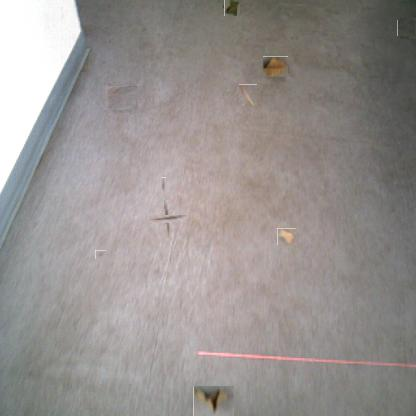dirty: (193, 386, 234, 416), (262, 56, 288, 77), (238, 86, 259, 106), (277, 228, 296, 246), (223, 0, 238, 15)
mark: (106, 84, 136, 113), (156, 207, 179, 231), (398, 19, 416, 37), (96, 249, 105, 260), (160, 177, 166, 190)
